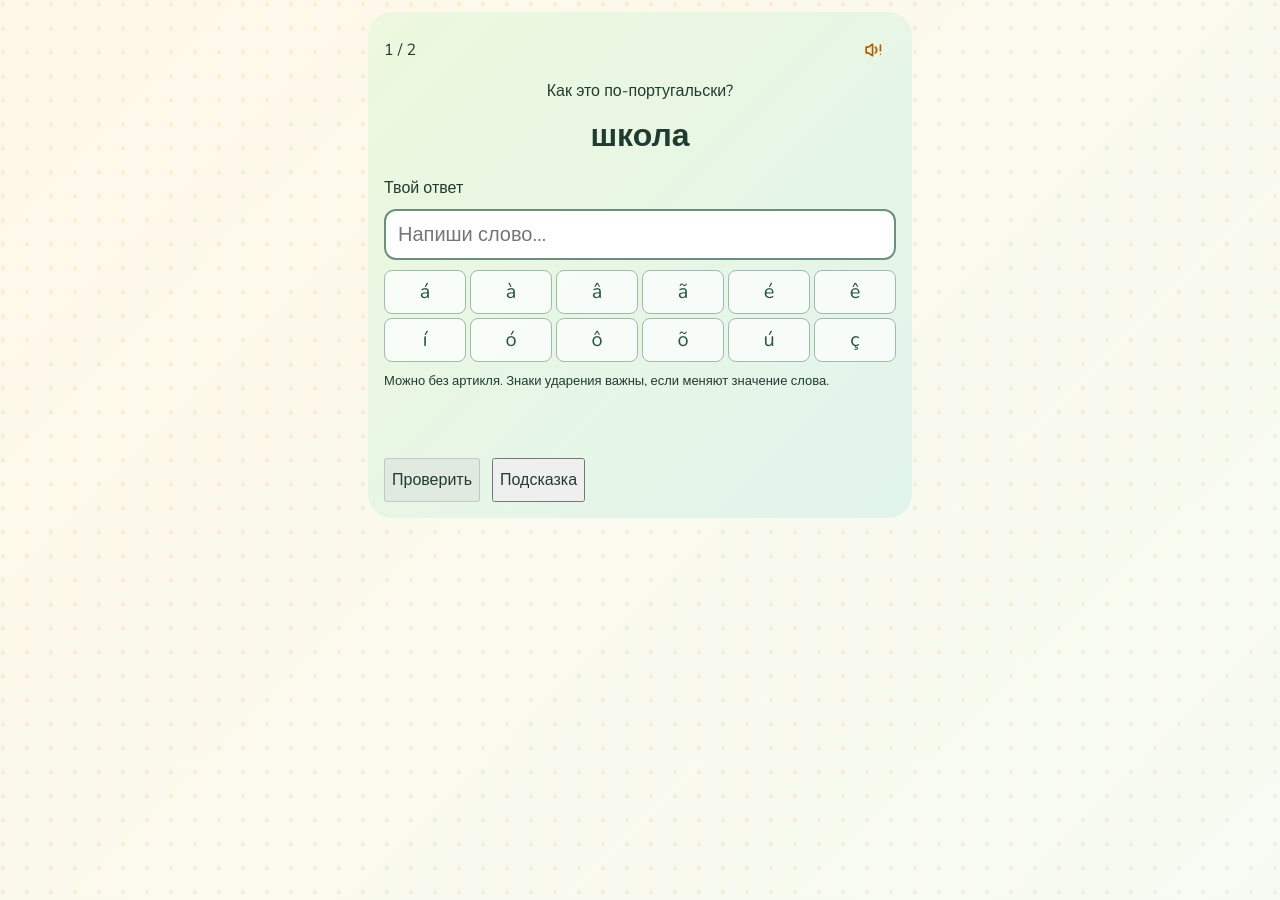
Scenario: VocabularyWriting › inserts accented letters at the cursor and replaces a selection
Type "po" into the field labelled "Твой ответ".
click(640, 234); type("po")  # box [384,209,896,260]
Then press Arrowleft
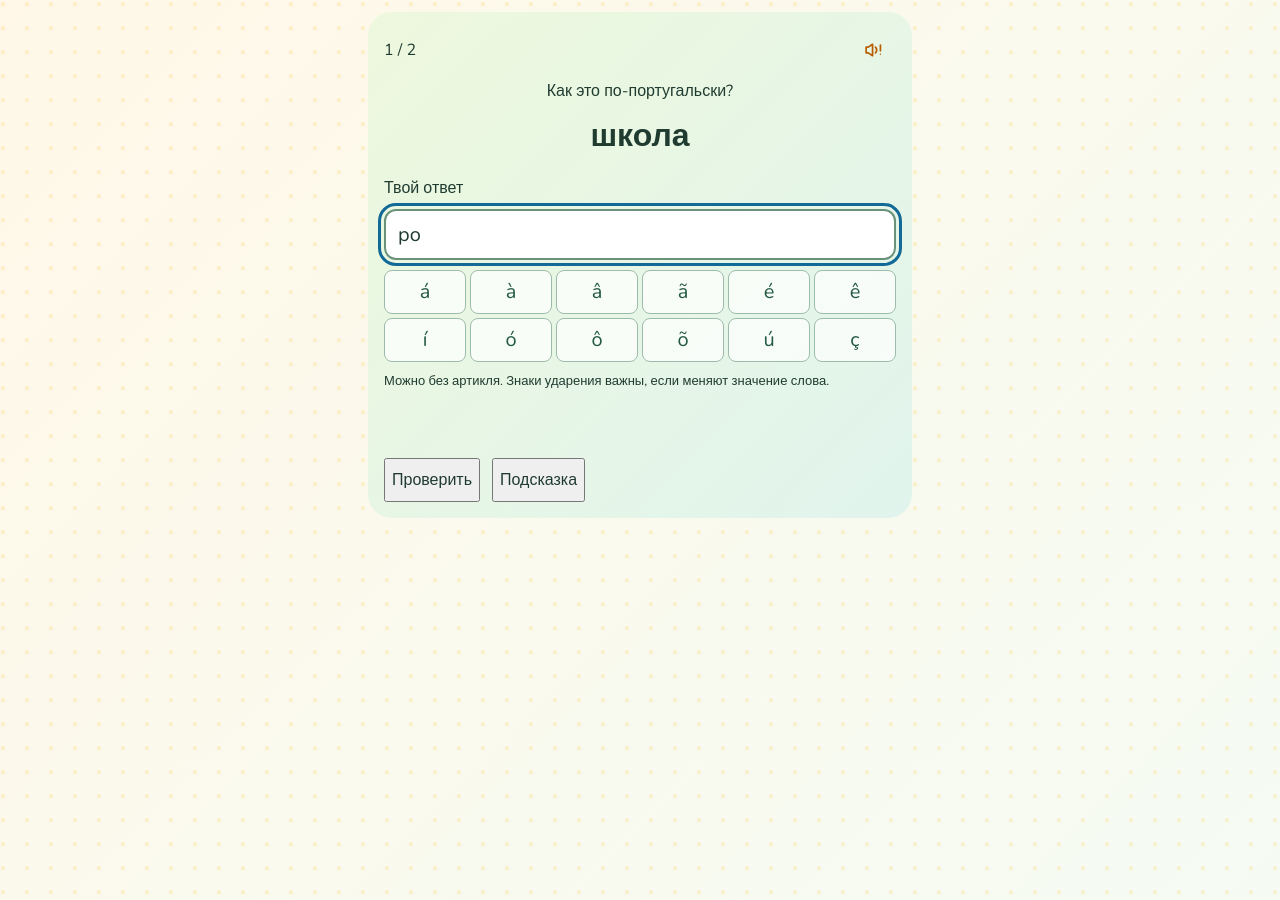
Click the button named "Вставить ã".
click(683, 292)  # box [642,270,724,314]
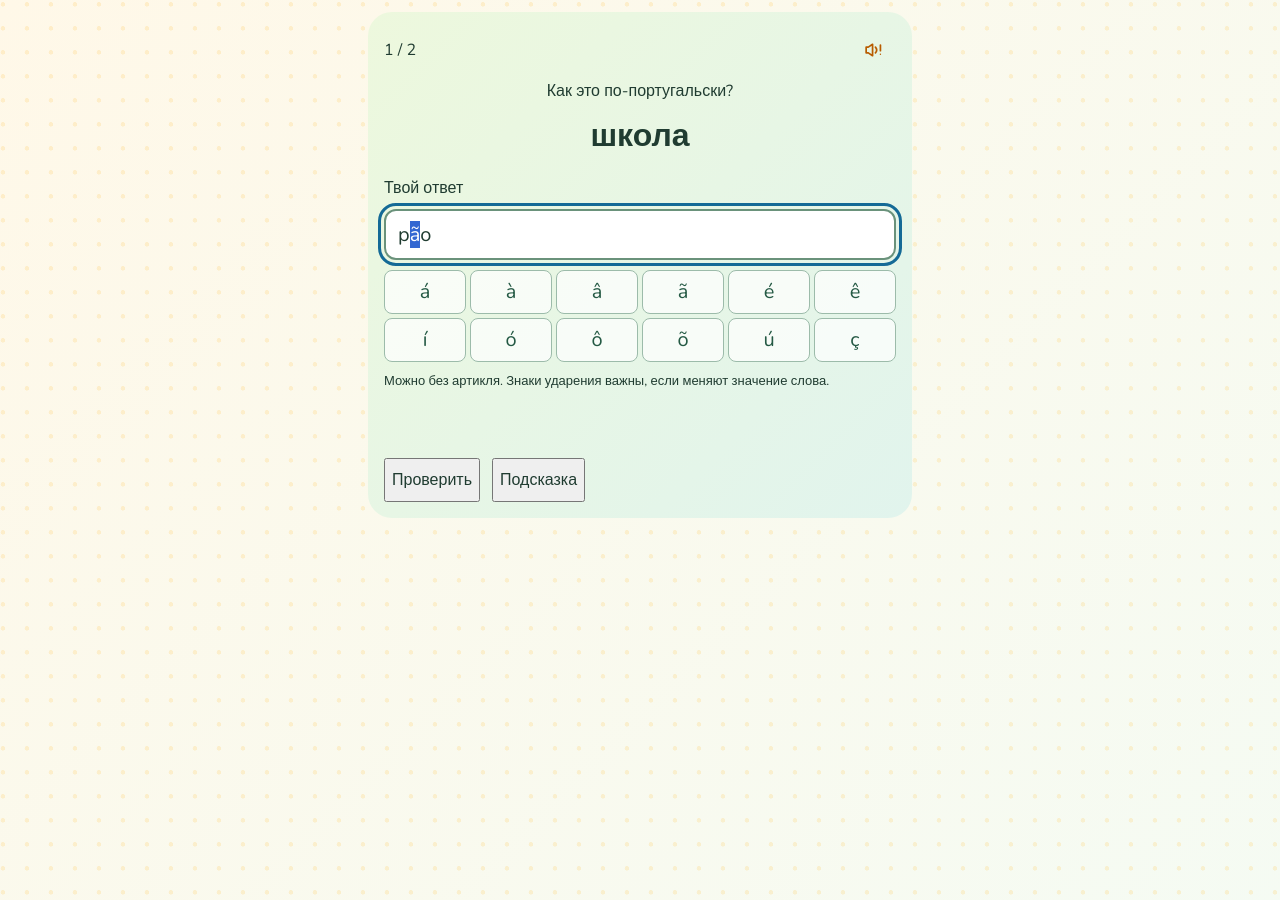
Result: the field labelled "Твой ответ" holds "pão" at [384,209,896,260]
Click the button named "Вставить á".
click(425, 292)  # box [384,270,466,314]
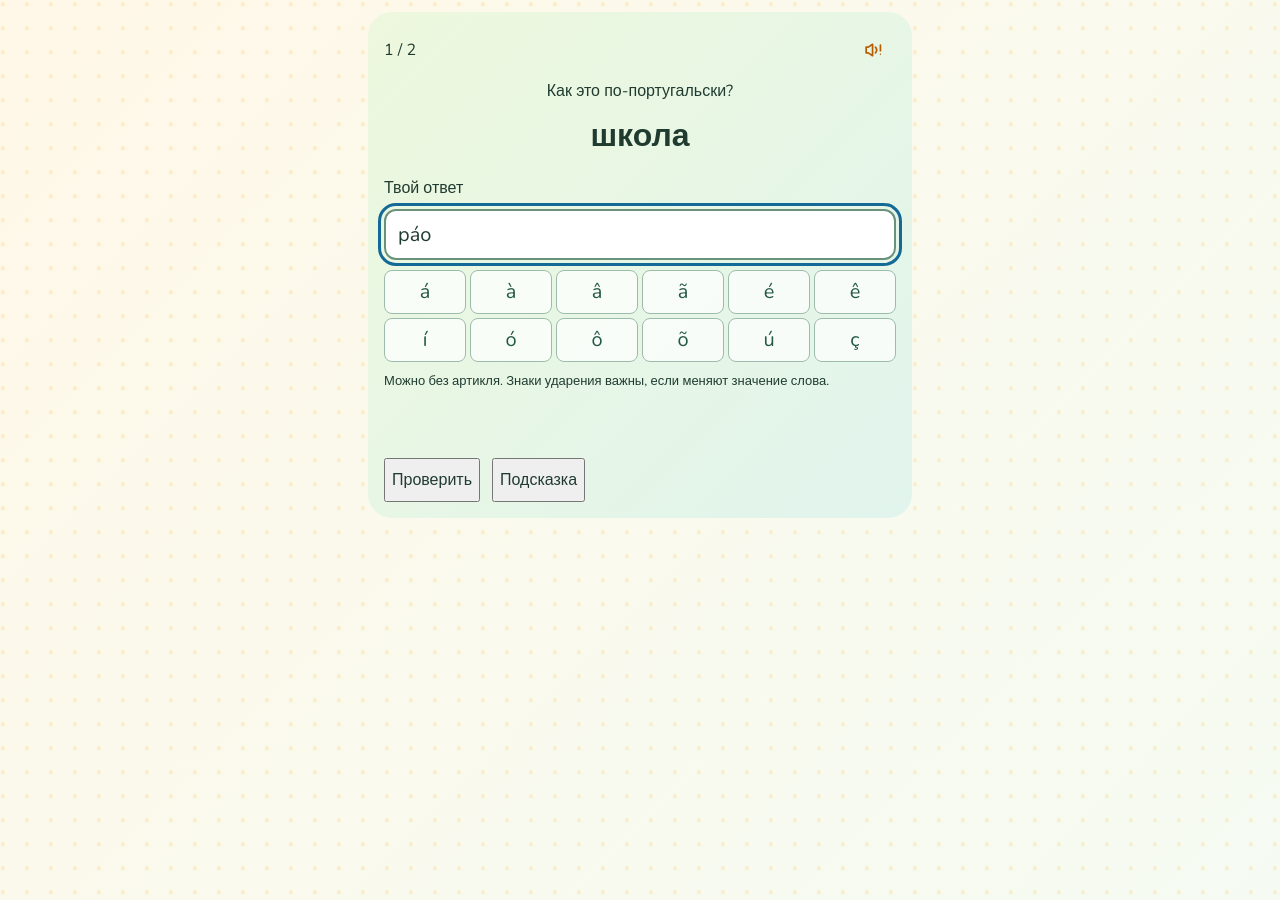
Result: the field labelled "Твой ответ" holds "páo" at [384,209,896,260]
Type keys "x"
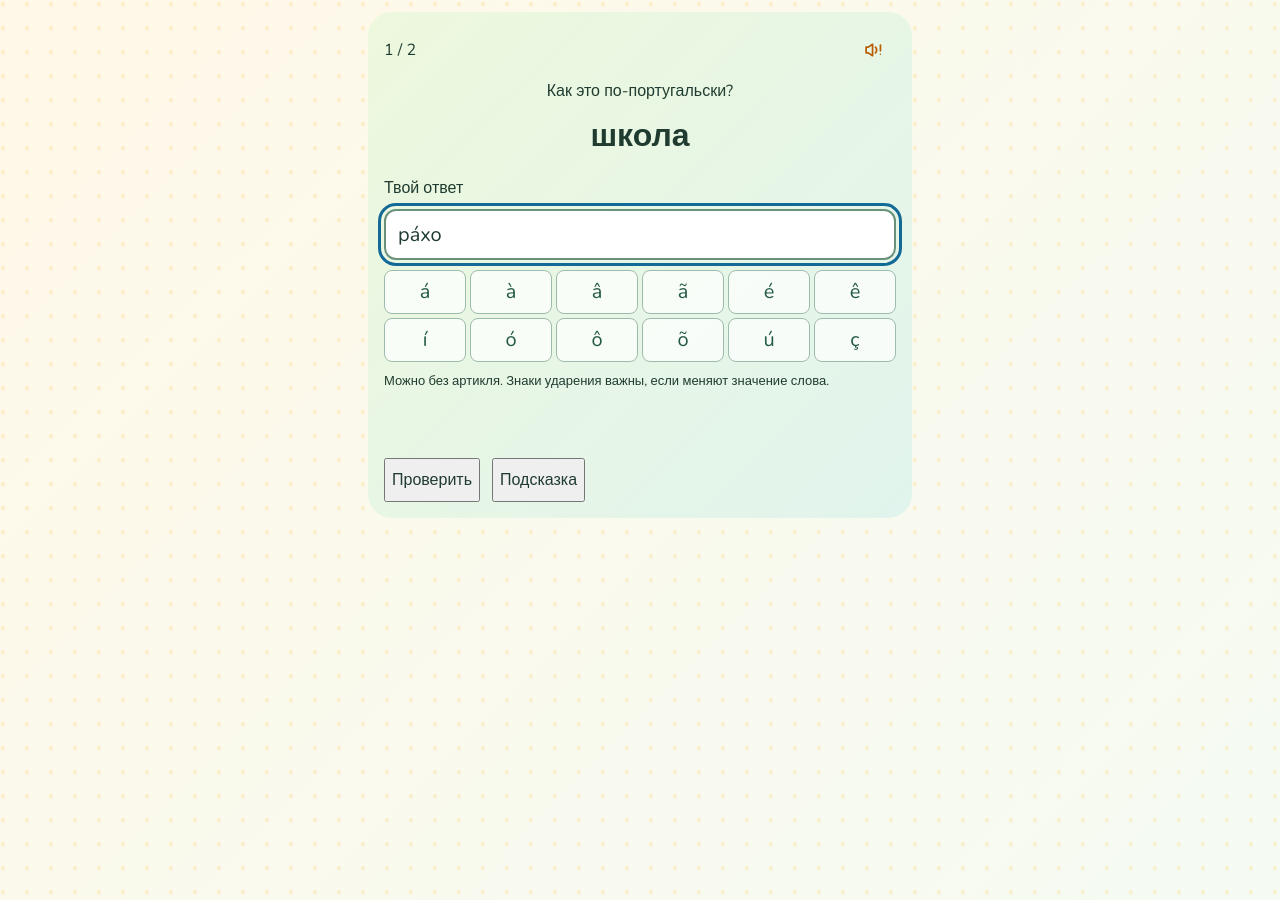
Result: the field labelled "Твой ответ" holds "páxo" at [384,209,896,260]
